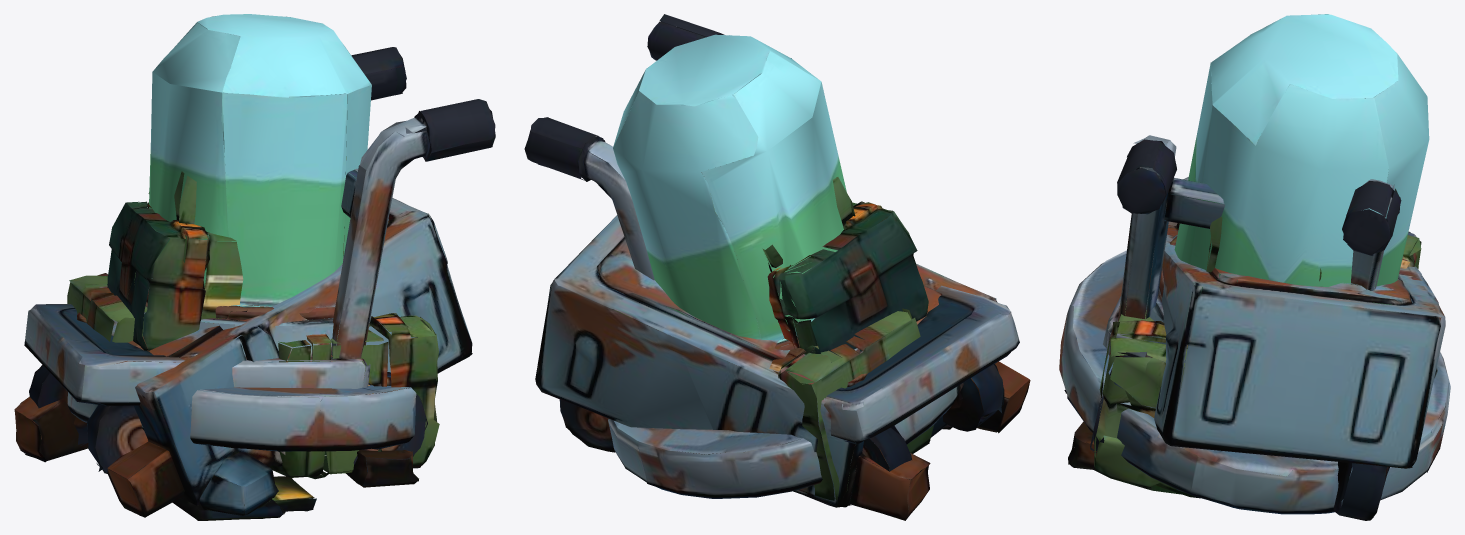
Rendered from covers.glb.
3 renders of one model, left to right at view 1: azimuth 30°, elevation 25°; view 2: azimuth 150°, elevation 25°; view 3: azimuth 270°, elevation 25°, orthographic. The views are drawn at different scales.
Visible parts, largest first — view 1: base, cart, cabinet, ammo; view 2: base, cabinet, cart, ammo; view 3: base, cabinet, cart, ammo.
Boxes of the visible parts, left/top/right/bottom form: base: left=67, top=14, right=434, bottom=451; cart: left=24, top=47, right=495, bottom=477; cabinet: left=14, top=198, right=472, bottom=520; ammo: left=67, top=156, right=439, bottom=511; base: left=608, top=34, right=963, bottom=498; cabinet: left=535, top=215, right=1030, bottom=520; cart: left=524, top=14, right=1019, bottom=479; ammo: left=614, top=172, right=933, bottom=500; base: left=1059, top=14, right=1450, bottom=514; cabinet: left=1064, top=223, right=1445, bottom=520; cart: left=1090, top=135, right=1418, bottom=453; ammo: left=1093, top=138, right=1421, bottom=498.
Bounding box in the file's own units: 0.3658 × 0.3525 × 0.2887.
Materials: 1 (1 with a texture image).
